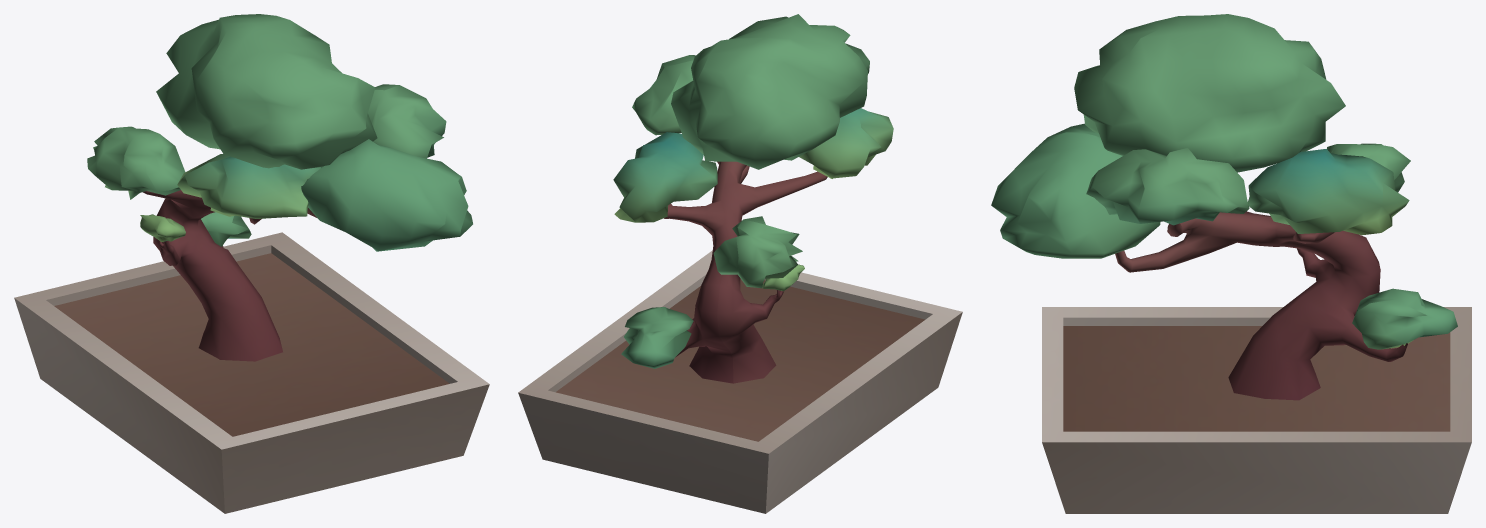
Rendered from tree1.glb.
3 renders of one model, left to right at view 1: azimuth 30°, elevation 25°; view 2: azimuth 150°, elevation 25°; view 3: azimuth 270°, elevation 25°, orthographic. The views are drawn at different scales.
Parts seen in each view (by area): view 1: node_id4; view 2: node_id4; view 3: node_id4.
Part boxes in pixels (x1,y1,x2,y2): node_id4: (14,14,489,513); node_id4: (518,14,962,513); node_id4: (991,14,1471,513).
Bounding box in the file's own units: 0.9054 × 1.29 × 1.33.
1 material, 1 textured.
